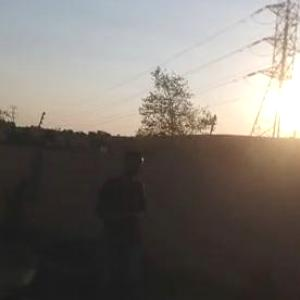follow: (90, 144, 149, 299)
